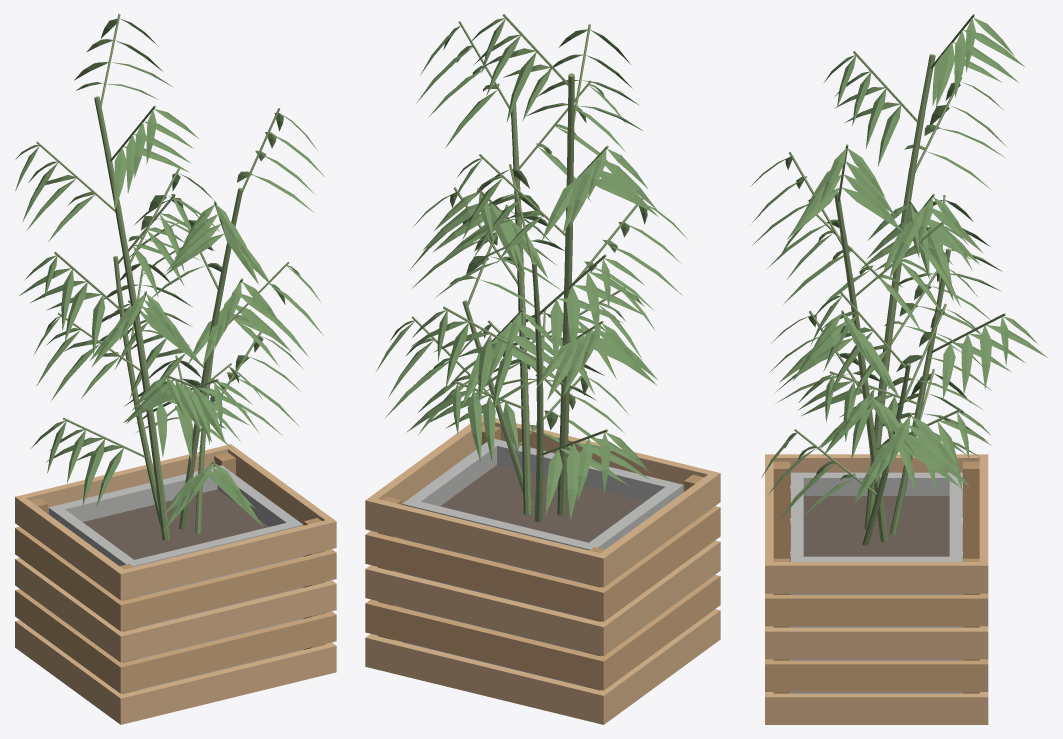
Rendered from plantera_galeria.glb.
The picture shows the model from 3 angles, left to right: view 1: azimuth 30°, elevation 25°; view 2: azimuth 150°, elevation 25°; view 3: azimuth 270°, elevation 25°; orthographic projection. The views are drawn at different scales.
Visible parts, largest first — view 1: Liston_FB_4_-1, Liston_FB_2_-1, Liston_FB_3_-1, Liston_FB_0_-1, Liston_FB_1_-1, Tierra, Liston_LR_4_-1, Liston_LR_0_-1, Liston_LR_2_-1, Liston_LR_1_-1, Liston_LR_3_-1, Liston_FB_4_1 (+5 smaller); view 2: Liston_FB_0_1, Liston_FB_3_1, Liston_FB_1_1, Liston_FB_2_1, Liston_FB_4_1, Tierra, Liston_LR_4_-1, Liston_LR_0_-1, Liston_LR_2_-1, Liston_LR_3_-1, Liston_LR_1_-1, Liston_LR_4_1 (+9 smaller); view 3: Tierra, Liston_LR_2_1, Liston_LR_4_1, Liston_LR_0_1, Liston_LR_1_1, Liston_LR_3_1, Cemento_LR_-1, Liston_LR_4_-1, Cemento_LR_1, Poste_Esquina_-1_-1, Poste_Esquina_-1_1, Liston_FB_4_1 (+10 smaller).
Boxes of the visible parts, x1,y1,x2,y2 form: Liston_FB_4_-1: (116, 518, 336, 600); Liston_FB_2_-1: (116, 581, 336, 662); Liston_FB_3_-1: (116, 549, 336, 631); Liston_FB_0_-1: (116, 643, 336, 724); Liston_FB_1_-1: (116, 612, 336, 693); Tierra: (83, 489, 268, 559); Liston_LR_4_-1: (19, 498, 123, 597); Liston_LR_0_-1: (19, 623, 123, 721); Liston_LR_2_-1: (19, 561, 123, 659); Liston_LR_1_-1: (19, 592, 123, 690); Liston_LR_3_-1: (19, 530, 123, 628); Liston_FB_4_1: (15, 444, 234, 525); Liston_FB_0_1: (365, 634, 608, 724); Liston_FB_3_1: (365, 531, 608, 621); Liston_FB_1_1: (365, 600, 608, 690); Liston_FB_2_1: (365, 566, 608, 656); Liston_FB_4_1: (365, 497, 608, 587); Tierra: (440, 465, 645, 542); Liston_LR_4_-1: (601, 474, 715, 583); Liston_LR_0_-1: (601, 612, 715, 721); Liston_LR_2_-1: (601, 544, 715, 652); Liston_LR_3_-1: (601, 509, 715, 618); Liston_LR_1_-1: (601, 578, 715, 686); Liston_LR_4_1: (370, 419, 484, 504); Tierra: (803, 496, 949, 556); Liston_LR_2_1: (773, 627, 979, 659); Liston_LR_4_1: (773, 562, 979, 593); Liston_LR_0_1: (773, 693, 979, 724); Liston_LR_1_1: (773, 660, 979, 691); Liston_LR_3_1: (773, 595, 979, 626); Cemento_LR_-1: (803, 472, 949, 495); Liston_LR_4_-1: (773, 454, 979, 485); Cemento_LR_1: (803, 556, 949, 693); Poste_Esquina_-1_-1: (773, 461, 790, 558); Poste_Esquina_-1_1: (963, 461, 979, 558); Liston_FB_4_1: (979, 454, 988, 593).
Bounding box in the file's own units: 0.8045 × 1.8 × 0.7509.
